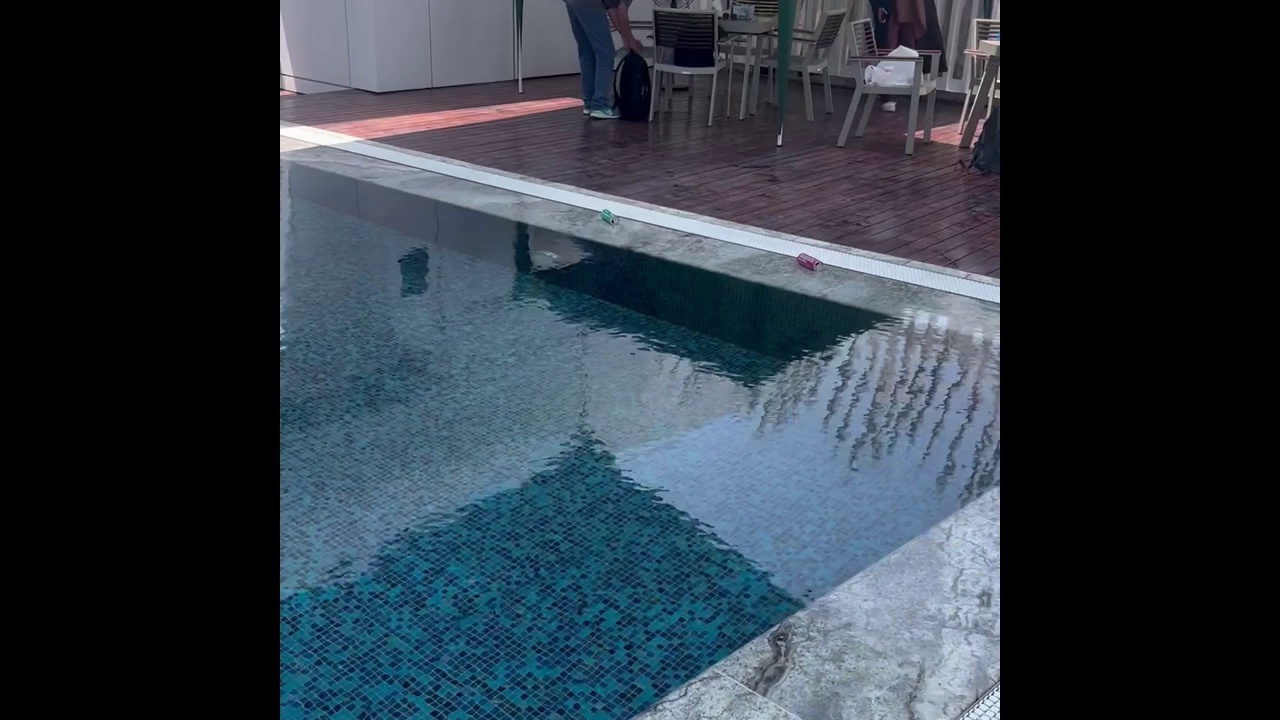debris: (792, 249, 827, 276), (598, 206, 619, 228)
